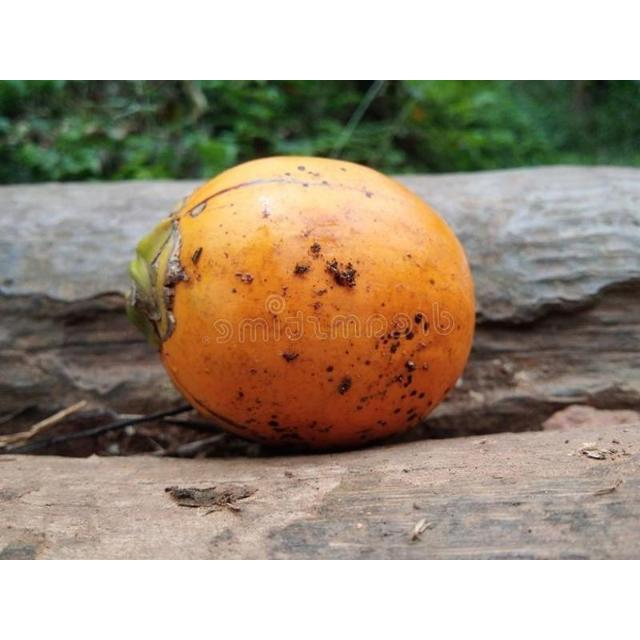good: (127, 156, 478, 453)
